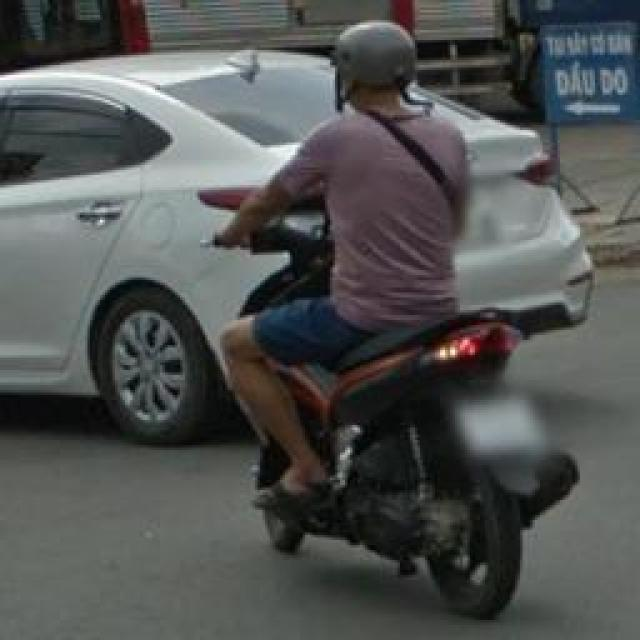car: (0, 23, 606, 448)
motorbike: (232, 28, 543, 625)
